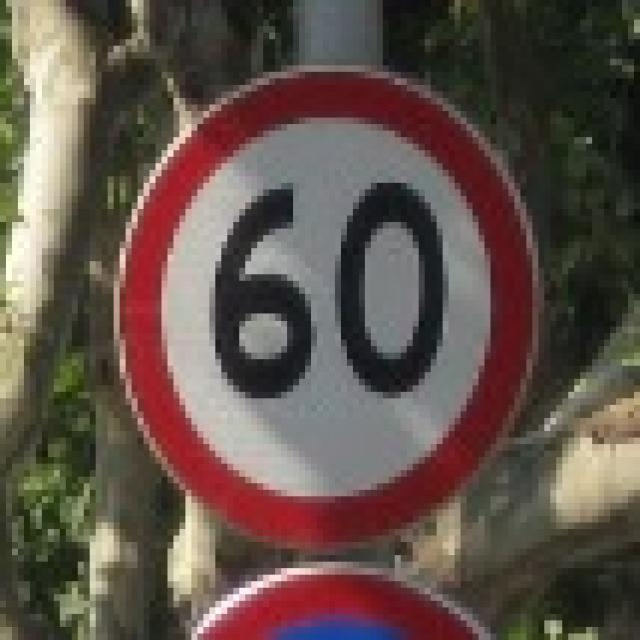Speed Limit -60-: (204, 173, 456, 406)
